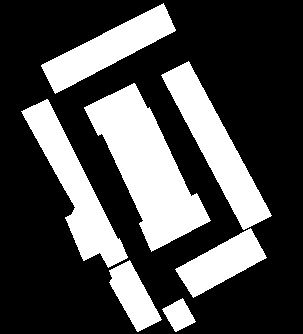parkingspot: (161, 61, 271, 229), (21, 99, 119, 260), (41, 3, 175, 93), (101, 107, 191, 221), (175, 228, 266, 297), (139, 193, 210, 251), (109, 260, 161, 331), (84, 83, 147, 135), (162, 298, 195, 331), (99, 238, 127, 267)
